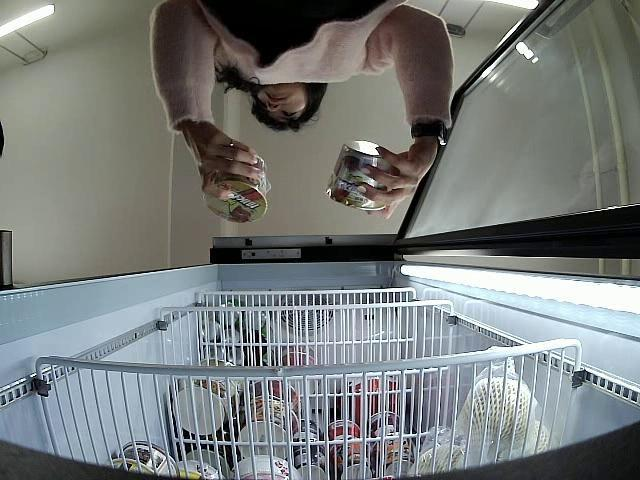04_chapagetti_S: (204, 148, 268, 222), (326, 139, 390, 212)
